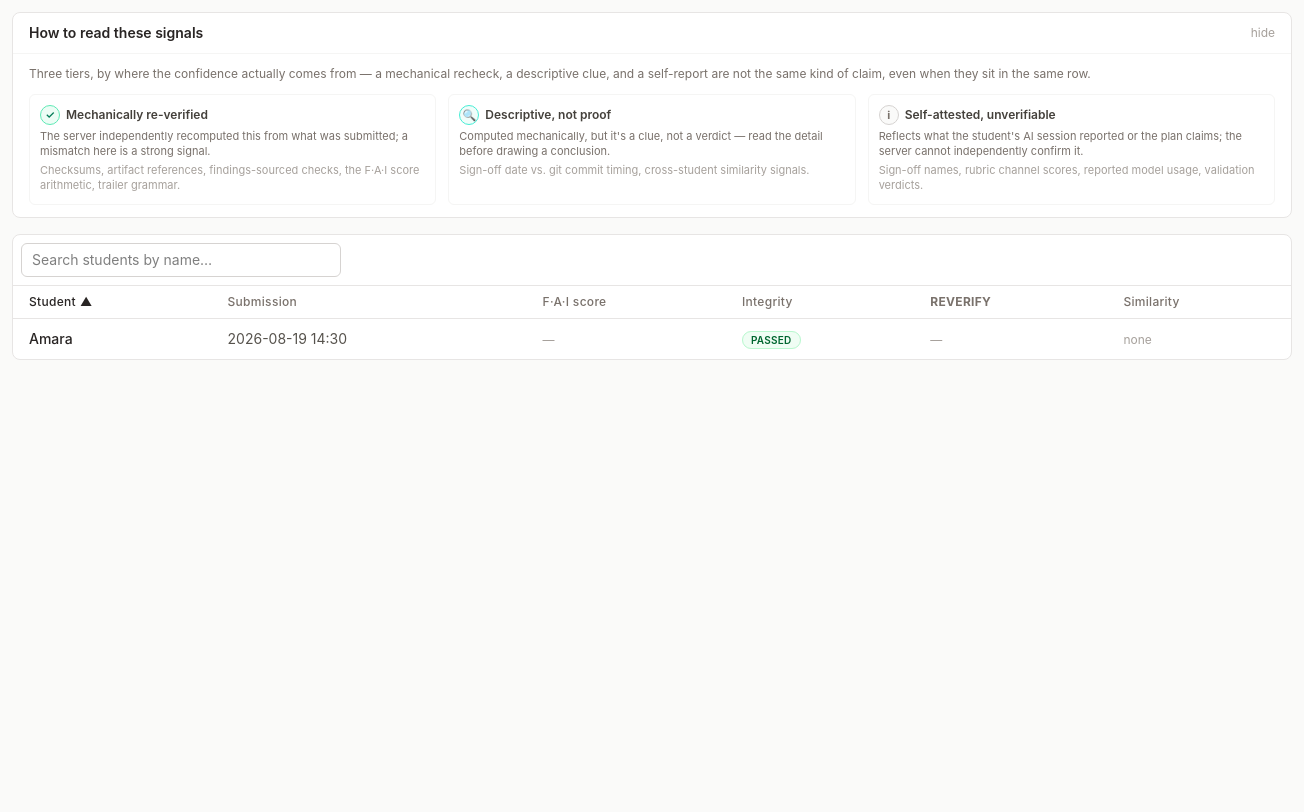
Roster drill-in › returns to the roster table via the back affordance
Click the text "Amara": (51, 338) [13,318,212,358]
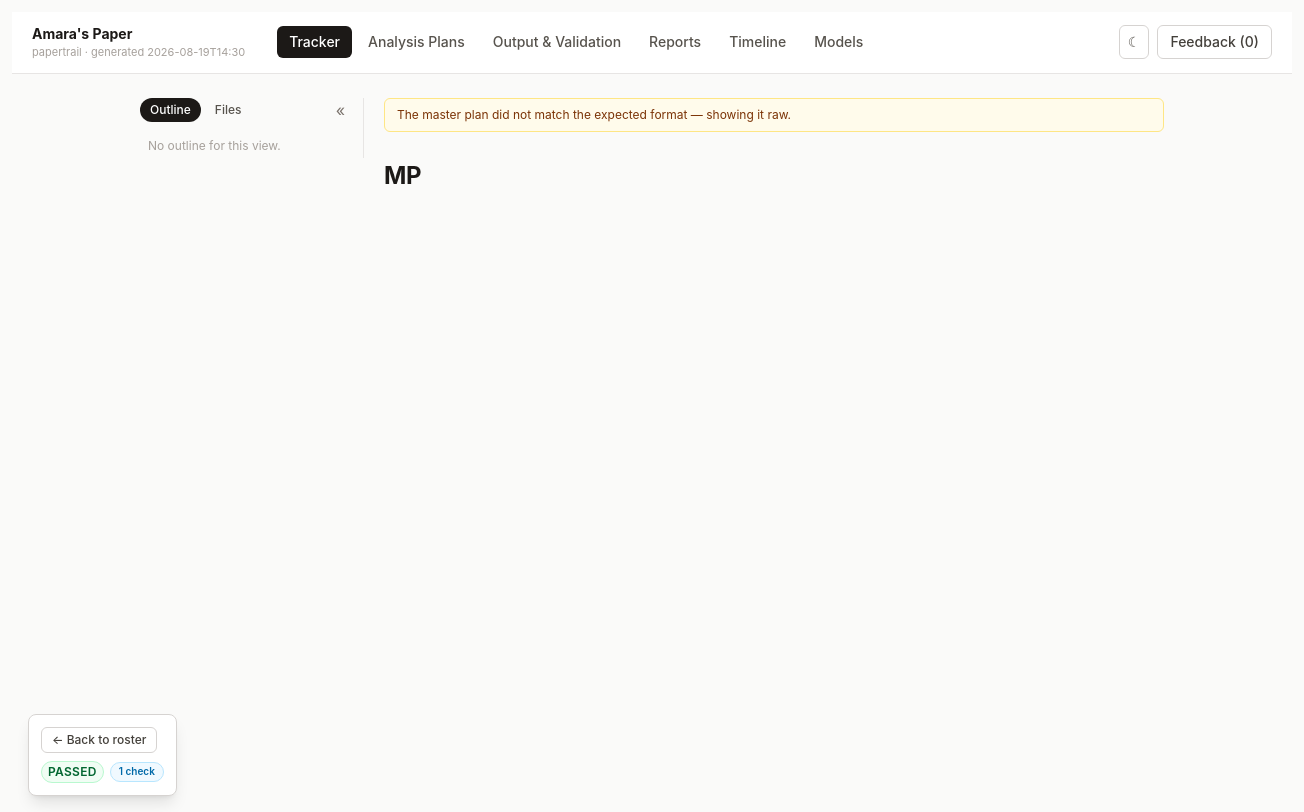
Now the text "Amara's Paper" is shown, box [32,25,132,42]
Click the button "← Back to roster": (99, 740) [41,727,157,753]
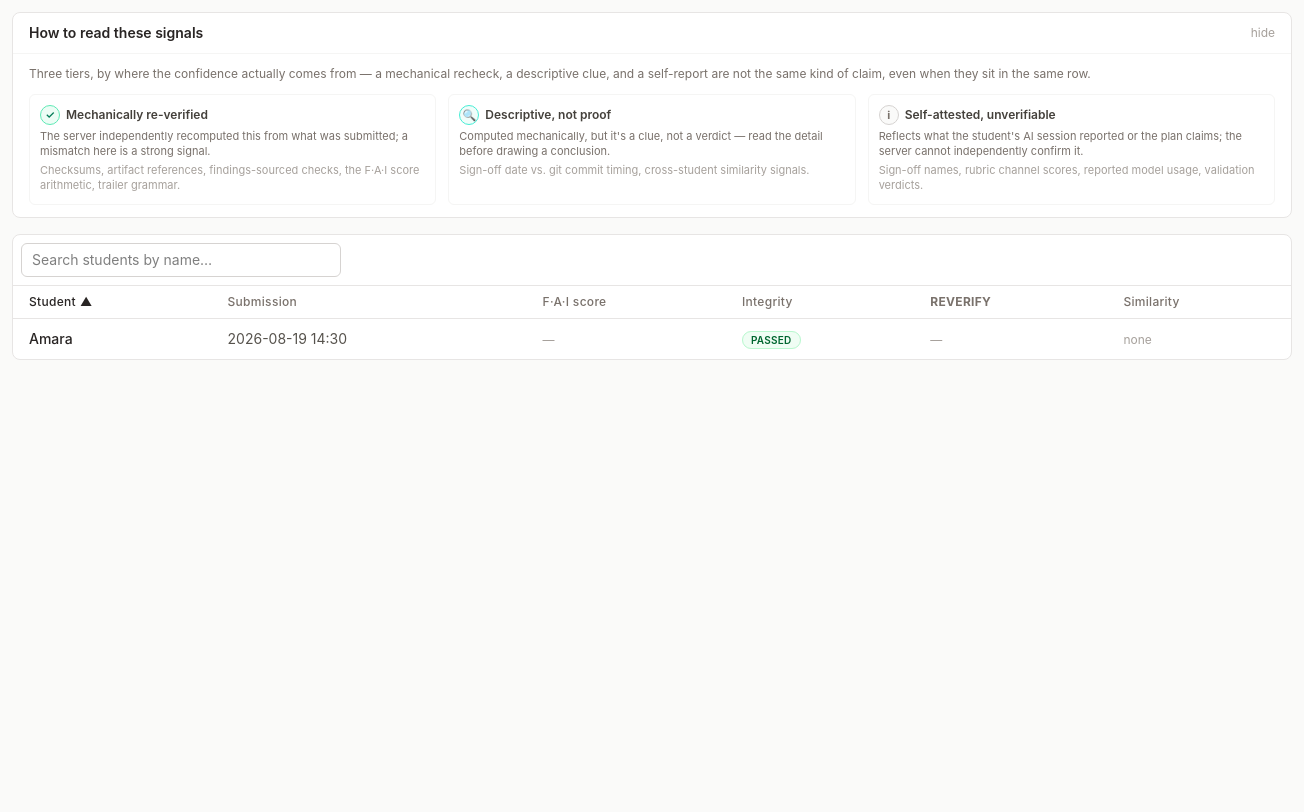
Now the text "How to read these signals" is shown, box [29,23,203,43]
